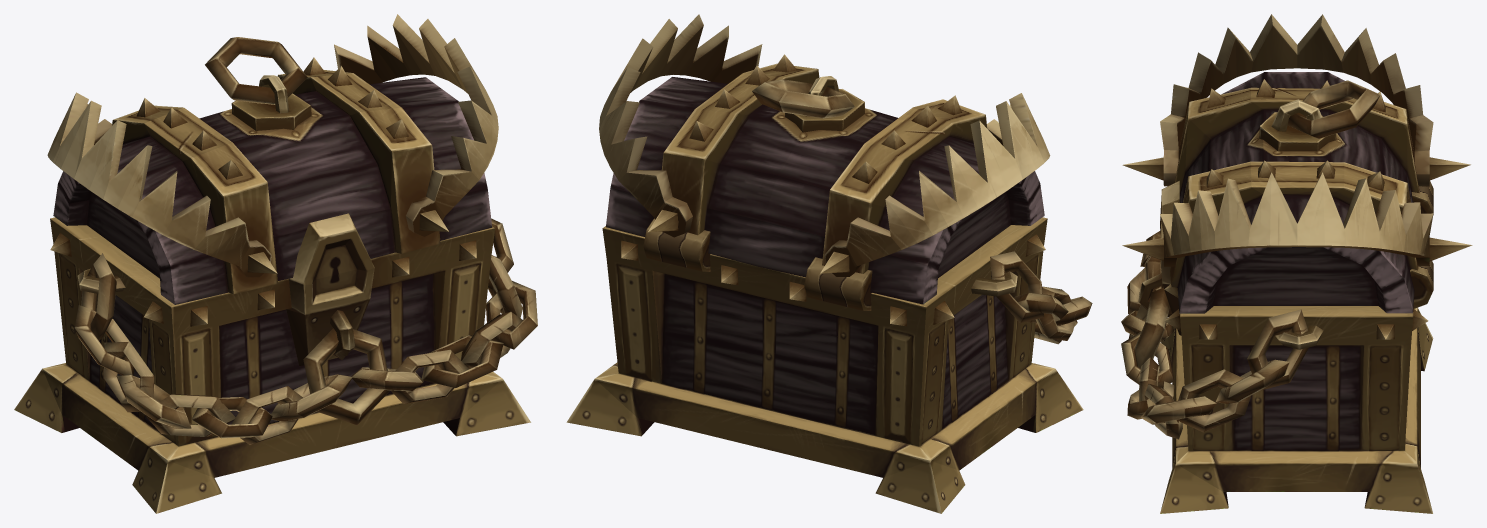
The model's file is Chest_4_gold.FBX.
The picture shows the model from 3 angles, left to right: view 1: azimuth 30°, elevation 25°; view 2: azimuth 150°, elevation 25°; view 3: azimuth 270°, elevation 25°; orthographic projection. The views are drawn at different scales.
Visible parts, largest first — view 1: Chest_4, Chest_4_cap; view 2: Chest_4, Chest_4_cap; view 3: Chest_4_cap, Chest_4.
Boxes of the visible parts, x1,y1,x2,y2 form: Chest_4: (14, 213, 537, 513); Chest_4_cap: (47, 14, 498, 304); Chest_4: (566, 217, 1092, 513); Chest_4_cap: (599, 14, 1050, 304); Chest_4_cap: (1122, 14, 1472, 313); Chest_4: (1121, 180, 1433, 513).
Bounding box in the file's own units: 3.35 × 2.63 × 2.48.
